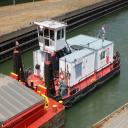tugboat: (13, 18, 123, 111)
